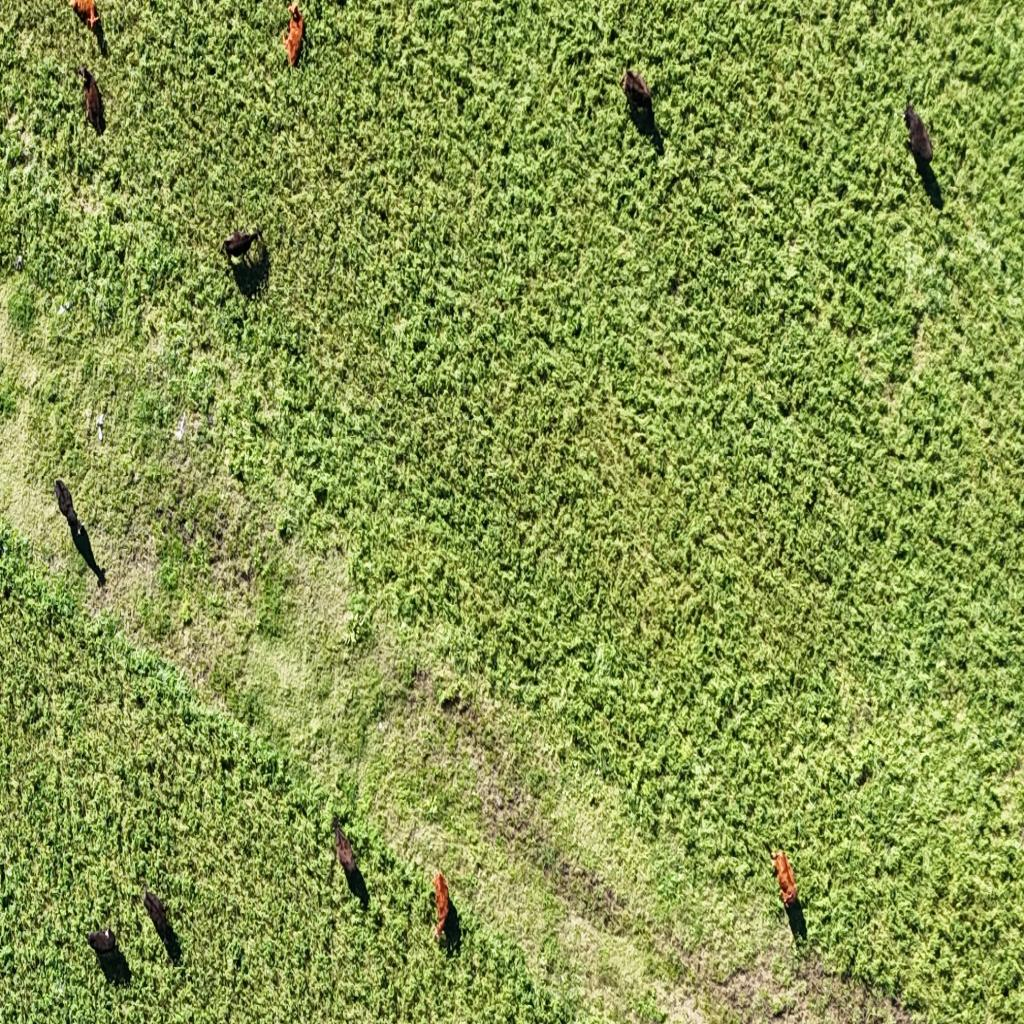cow: (901, 102, 936, 175), (75, 60, 106, 136), (431, 870, 458, 952), (220, 225, 268, 270), (620, 67, 653, 121), (332, 813, 356, 881), (772, 850, 798, 910), (281, 2, 303, 68), (54, 478, 76, 524), (144, 891, 168, 933), (84, 926, 118, 955), (70, 0, 99, 30), (287, 0, 302, 24)
